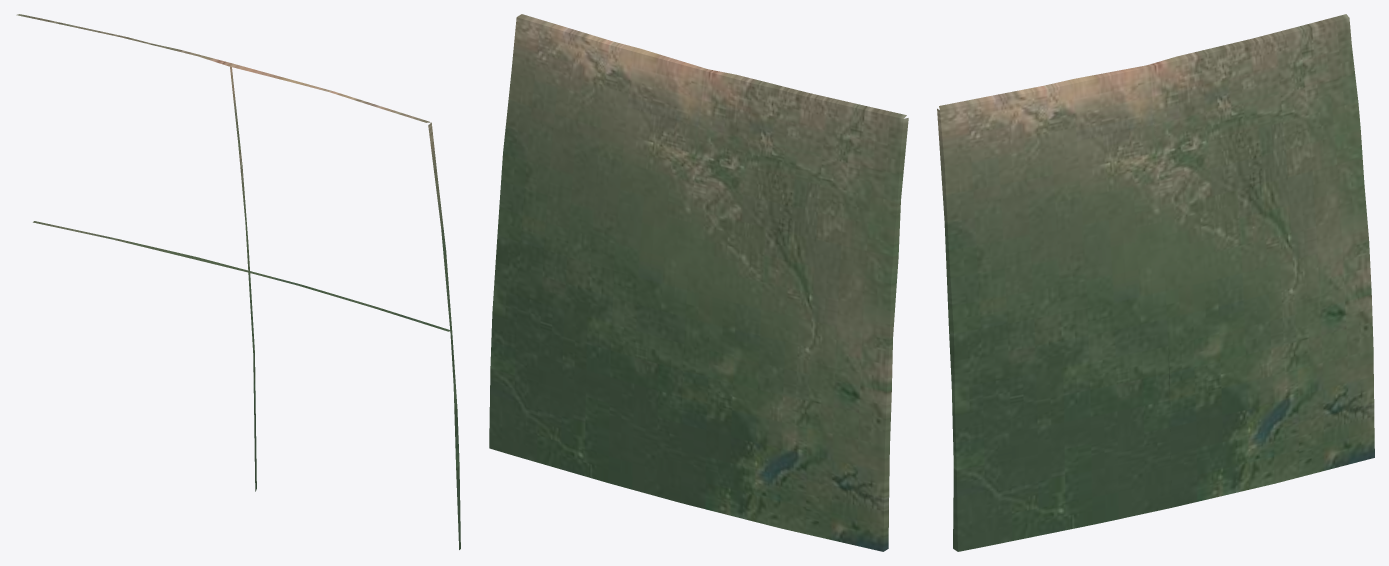
3 renders of one model, left to right at view 1: azimuth 30°, elevation 25°; view 2: azimuth 210°, elevation 25°; view 3: azimuth 270°, elevation 25°, orthographic. The views are drawn at different scales.
Size of the model in its own units: 712180 by 1253932 by 1163184.
Materials: 1 (1 with a texture image).
